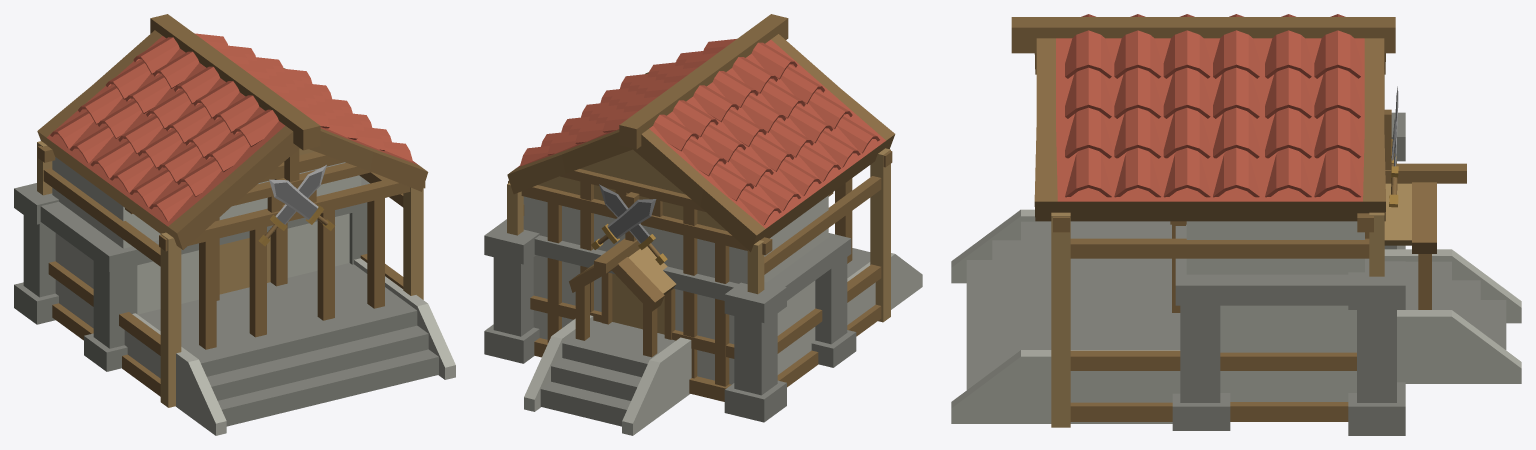
The model's file is m_barracks2.glb.
The picture shows the model from 3 angles, left to right: view 1: azimuth 30°, elevation 25°; view 2: azimuth 150°, elevation 25°; view 3: azimuth 270°, elevation 25°; orthographic projection. The views are drawn at different scales.
Parts seen in each view (by area): view 1: Barracks_SecondAge_Level1; view 2: Barracks_SecondAge_Level1; view 3: Barracks_SecondAge_Level1.
Boxes of the visible parts, x1,y1,x2,y2 form: Barracks_SecondAge_Level1: (14, 14, 455, 435); Barracks_SecondAge_Level1: (484, 14, 922, 435); Barracks_SecondAge_Level1: (951, 14, 1521, 435).
Bounding box in the file's own units: 1.01 × 0.8931 × 1.41.
